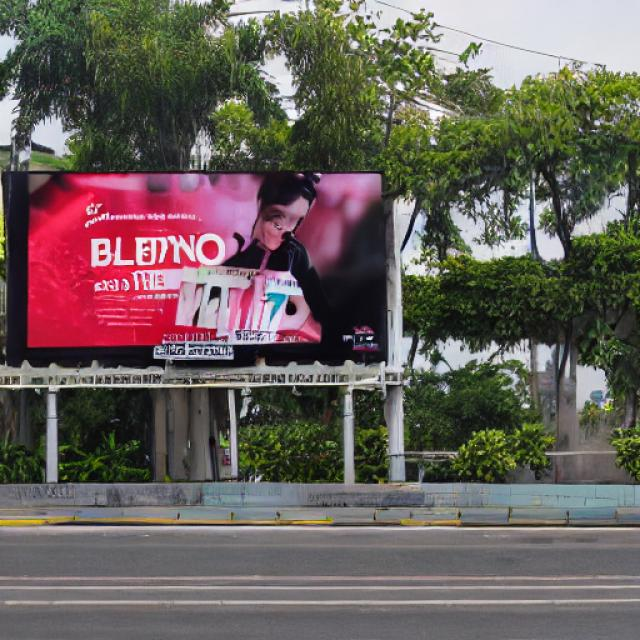Billboard: (4, 165, 390, 368)
